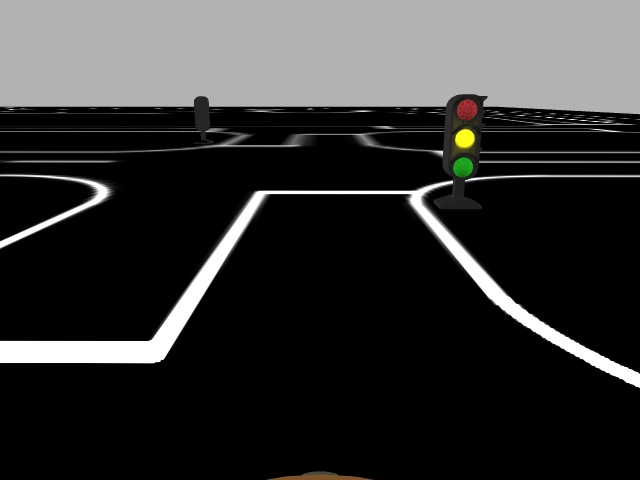yellow_light: (443, 93, 484, 181)
